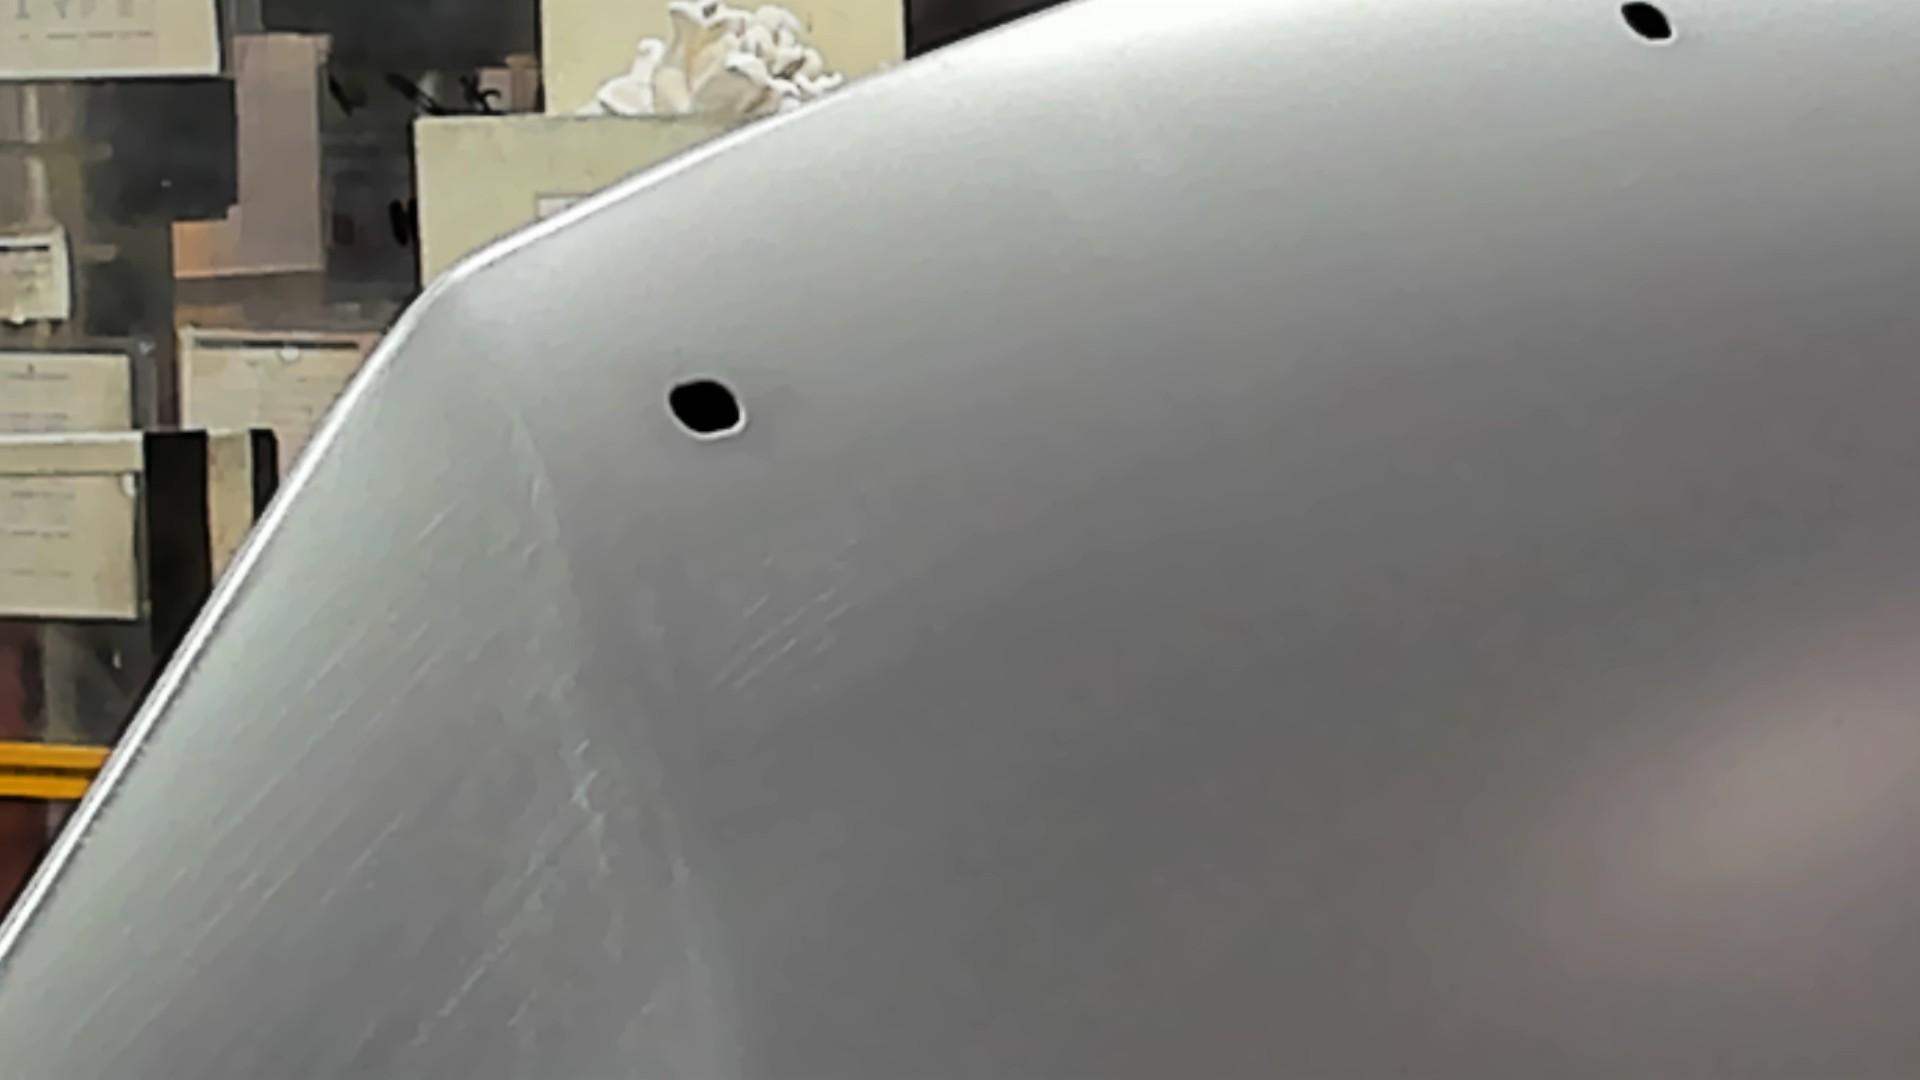amorfo: (661, 373, 754, 446), (1611, 1, 1679, 44)
capo: (857, 103, 1920, 1080)
